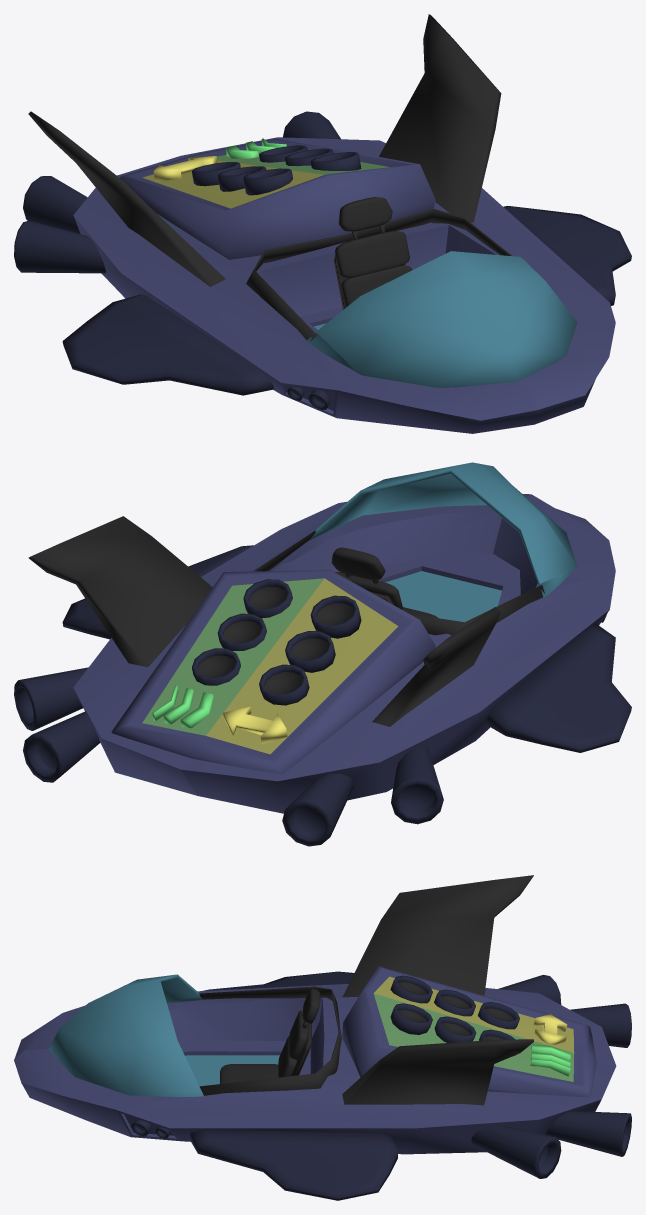
Rendered from CycleEngine_Engine_v1,51.fbx.
The picture shows the model from 3 angles, top to bottom: view 1: azimuth 30°, elevation 25°; view 2: azimuth 150°, elevation 25°; view 3: azimuth 270°, elevation 25°; orthographic projection. The views are drawn at different scales.
Visible parts, largest first — view 1: Base, visière, Holders, Cube.003, Wings.001, Rockets.001, seat, Wings, cockpit.003; view 2: Base, Holders, Cube.003, Rockets.001, Wings.001, visière, Plane, seat, cockpit.003, Wings; view 3: Base, Cube.003, Holders, visière, Wings, Rockets.001, cockpit.003, seat, Plane, Wings.001, seat.001.
Part boxes in pixels (x1,y1,x2,y2): Base: [73, 137, 615, 433]; visière: [306, 251, 577, 387]; Holders: [119, 138, 435, 259]; Cube.003: [28, 14, 501, 286]; Wings.001: [62, 294, 273, 395]; Rockets.001: [14, 111, 340, 273]; seat: [334, 197, 412, 309]; Wings: [503, 206, 631, 305]; cockpit.003: [246, 209, 512, 341]; Base: [73, 494, 615, 813]; Holders: [111, 570, 435, 774]; Cube.003: [28, 516, 500, 726]; Rockets.001: [14, 667, 443, 846]; Wings.001: [486, 624, 631, 752]; visière: [309, 462, 577, 597]; Plane: [385, 571, 501, 622]; seat: [331, 547, 402, 609]; cockpit.003: [254, 531, 544, 635]; Wings: [62, 545, 253, 639]; Base: [14, 984, 616, 1154]; Cube.003: [342, 875, 533, 1105]; Holders: [342, 966, 596, 1097]; visière: [48, 974, 203, 1096]; Wings: [190, 1130, 397, 1200]; Rockets.001: [471, 975, 631, 1178]; cockpit.003: [199, 986, 341, 1095]; seat: [278, 988, 320, 1077]; Plane: [185, 1055, 279, 1086]; Wings.001: [203, 971, 354, 990]; seat.001: [220, 1064, 278, 1083].
Size of the model in its own units: 571 by 169 by 660.
